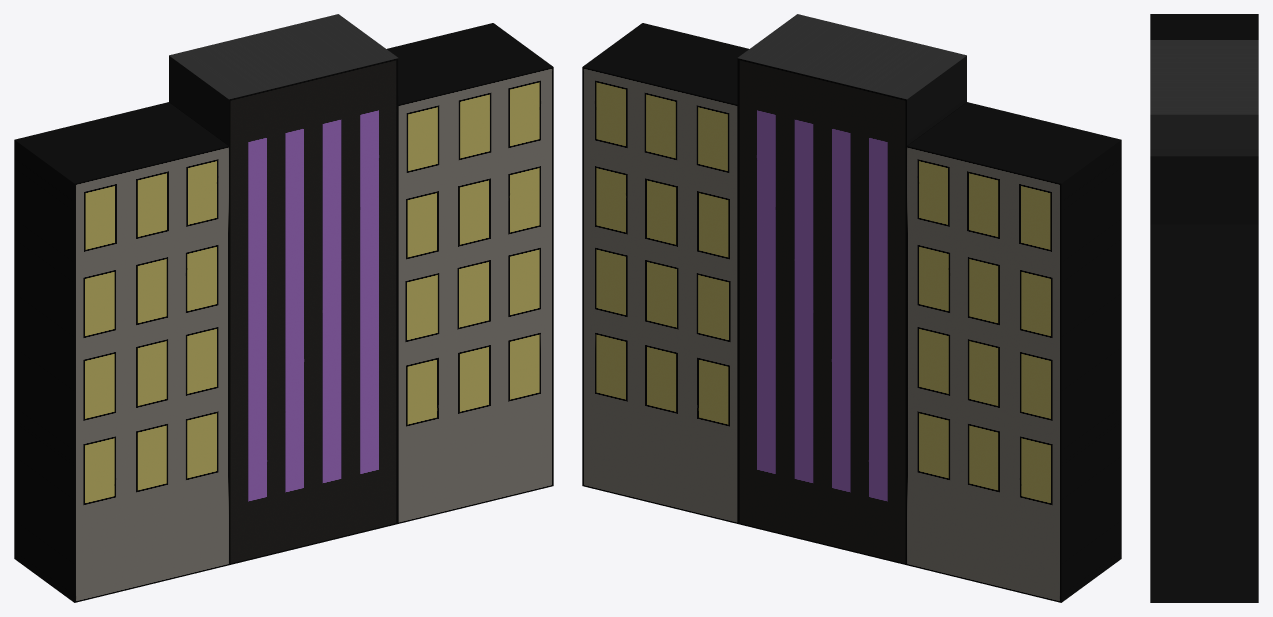
The model's file is building7.fbx.
3 renders of one model, left to right at view 1: azimuth 30°, elevation 25°; view 2: azimuth 150°, elevation 25°; view 3: azimuth 270°, elevation 25°, orthographic. The views are drawn at different scales.
Visible parts, largest first — view 1: Building7; view 2: Building7; view 3: Building7.
Part boxes in pixels (x1=…): Building7: x1=14, y1=14, x2=553, y2=602; Building7: x1=582, y1=14, x2=1121, y2=602; Building7: x1=1150, y1=14, x2=1258, y2=602.
Bounding box in the file's own units: 460 × 427 × 100.
